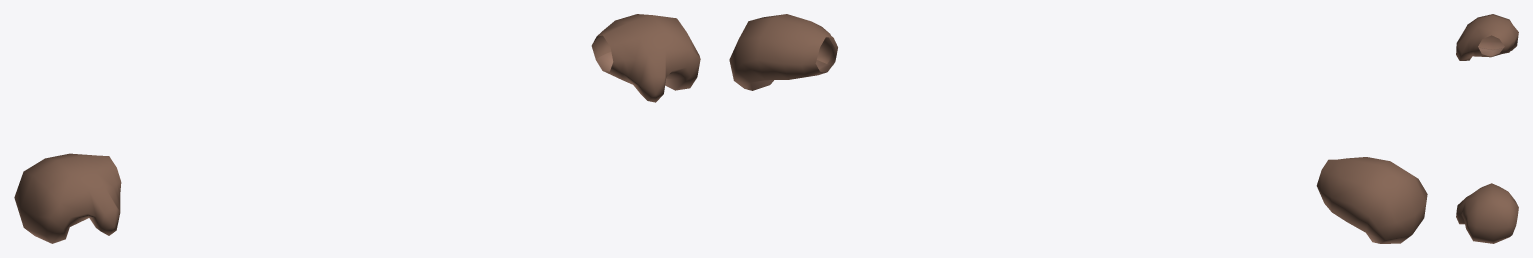
Rendered from Body_Black_Hand.fbx.
3 views of the same model, side by side, from view 1: azimuth 30°, elevation 25°; view 2: azimuth 150°, elevation 25°; view 3: azimuth 270°, elevation 25° (orthographic). The views are drawn at different scales.
Parts seen in each view (by area): view 1: Body_Black_Hand; view 2: Body_Black_Hand; view 3: Body_Black_Hand.
Part boxes in pixels (bbox=[...]): Body_Black_Hand: bbox=[14, 14, 700, 243]; Body_Black_Hand: bbox=[729, 14, 1427, 243]; Body_Black_Hand: bbox=[1456, 14, 1518, 243].
Size of the model in its own units: 130 by 13.15 by 17.22.
